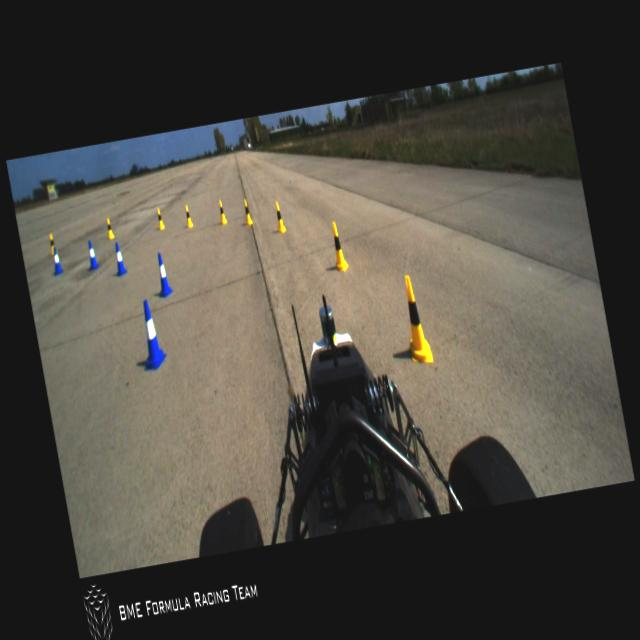blue_cone: (132, 298, 168, 370), (151, 250, 172, 298), (111, 242, 127, 277), (85, 238, 98, 270), (51, 248, 62, 274)
yellow_cone: (398, 274, 433, 365), (328, 221, 348, 273), (273, 200, 286, 233), (242, 198, 252, 226), (216, 199, 226, 224), (47, 232, 57, 256), (104, 216, 114, 238), (155, 207, 164, 229), (184, 204, 192, 228)
